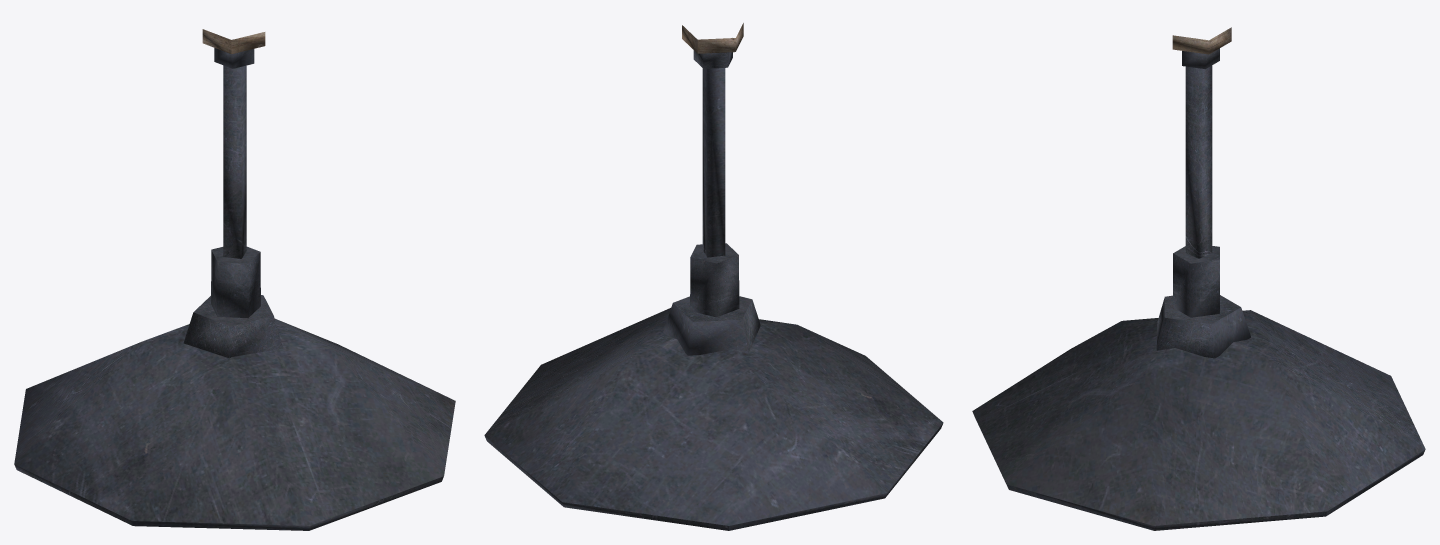
The model's file is Prop_Dd01_lod1.glb.
The picture shows the model from 3 angles, left to right: view 1: azimuth 30°, elevation 25°; view 2: azimuth 150°, elevation 25°; view 3: azimuth 270°, elevation 25°; orthographic projection.
Parts seen in each view (by area): view 1: xiutz_dd_01_lod1; view 2: xiutz_dd_01_lod1; view 3: xiutz_dd_01_lod1.
Part boxes in pixels (box(x1,y1,x2,y2)): xiutz_dd_01_lod1: box(14, 29, 455, 530); xiutz_dd_01_lod1: box(484, 23, 943, 530); xiutz_dd_01_lod1: box(972, 27, 1425, 530).
Bounding box in the file's own units: 0.9165 × 1.04 × 0.9165.
Materials: 1 (1 with a texture image).
